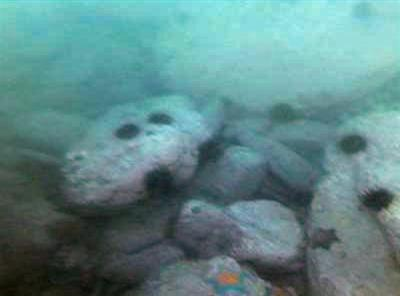urchin: (338, 130, 371, 157), (145, 165, 175, 194), (269, 100, 295, 126), (114, 119, 143, 142), (145, 110, 179, 128)
